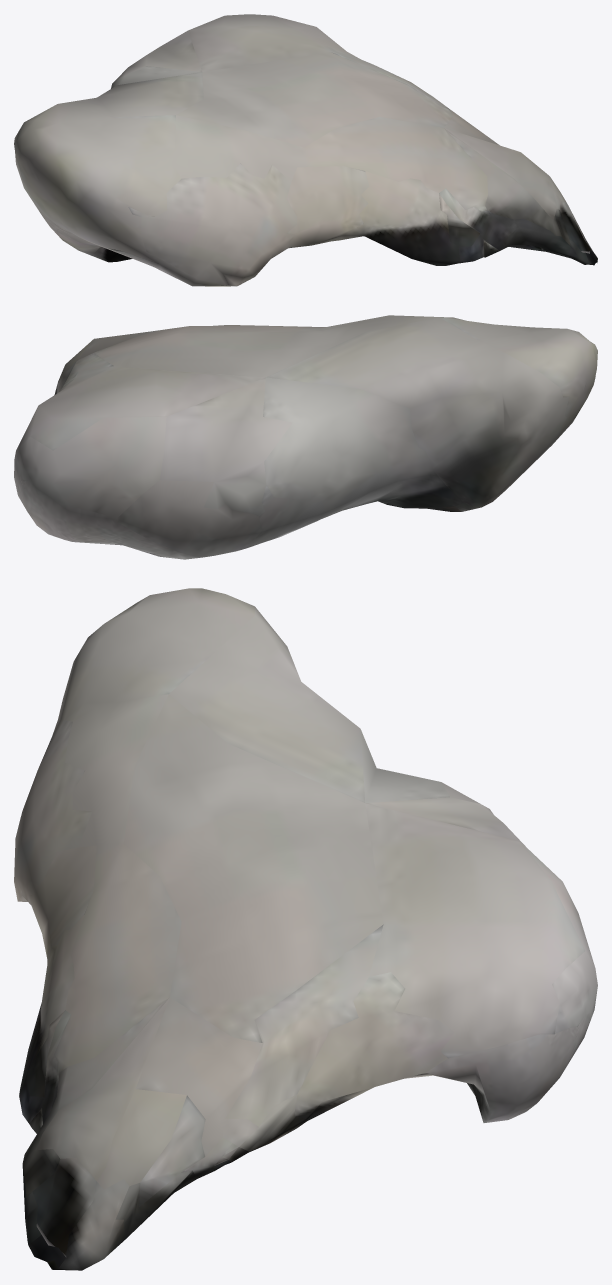
Rendered from hall.glb.
3 renders of one model, top to bottom at view 1: azimuth 30°, elevation 25°; view 2: azimuth 150°, elevation 25°; view 3: azimuth 270°, elevation 25°, orthographic. The views are drawn at different scales.
Size of the model in its own units: 0.2162 by 0.0874 by 0.1433.
Materials: 1 (1 with a texture image).
